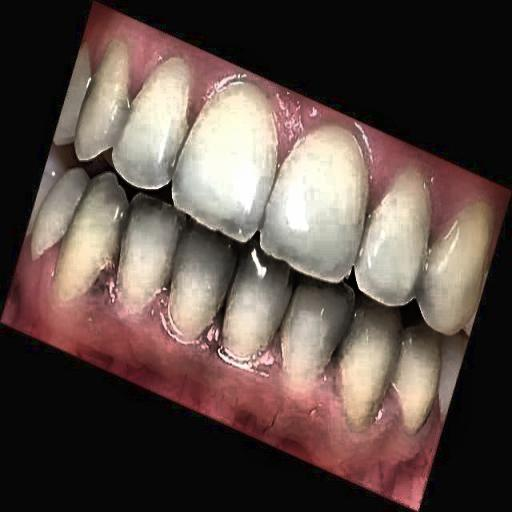Healthy: (71, 45, 464, 418)
